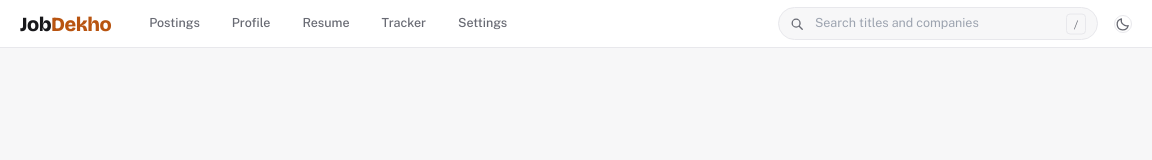
Test: Topbar search hint › hides the hint once the box has focus
Step 1. Focus the field named "Keyword" → x=938, y=24, box x1=778 y1=7 x2=1098 y2=40
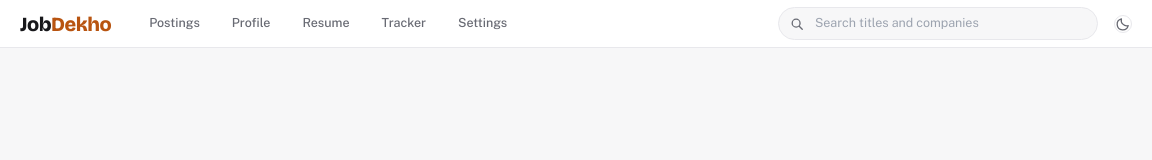
Result: the text "/" is gone
